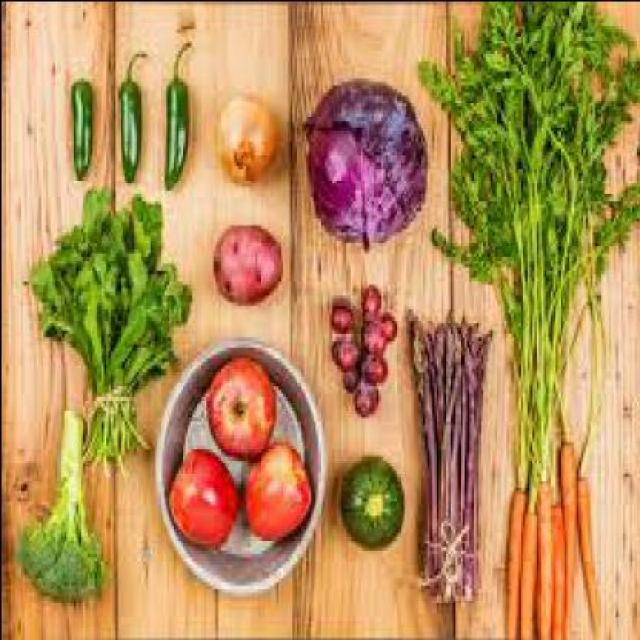BIODEGRADABLE: (430, 1, 638, 512), (28, 182, 194, 468), (410, 304, 493, 602), (302, 77, 428, 245), (21, 402, 107, 602), (207, 350, 278, 458), (170, 444, 242, 542), (246, 437, 312, 538), (213, 217, 284, 297), (342, 455, 407, 542), (216, 91, 278, 178), (163, 38, 195, 182), (118, 44, 150, 178), (578, 472, 602, 637), (558, 430, 577, 636), (507, 482, 528, 636), (520, 493, 542, 636), (70, 73, 96, 175), (535, 472, 551, 637), (550, 497, 565, 637), (354, 374, 381, 412), (363, 318, 386, 349), (333, 335, 361, 360), (333, 298, 356, 325), (379, 304, 398, 336), (364, 353, 388, 378), (368, 277, 382, 308), (344, 360, 358, 385)
